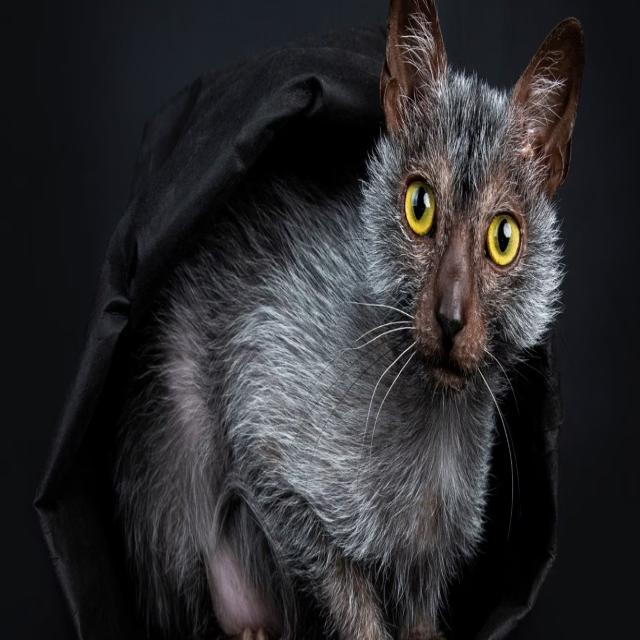Lykoi: (118, 0, 591, 640)
